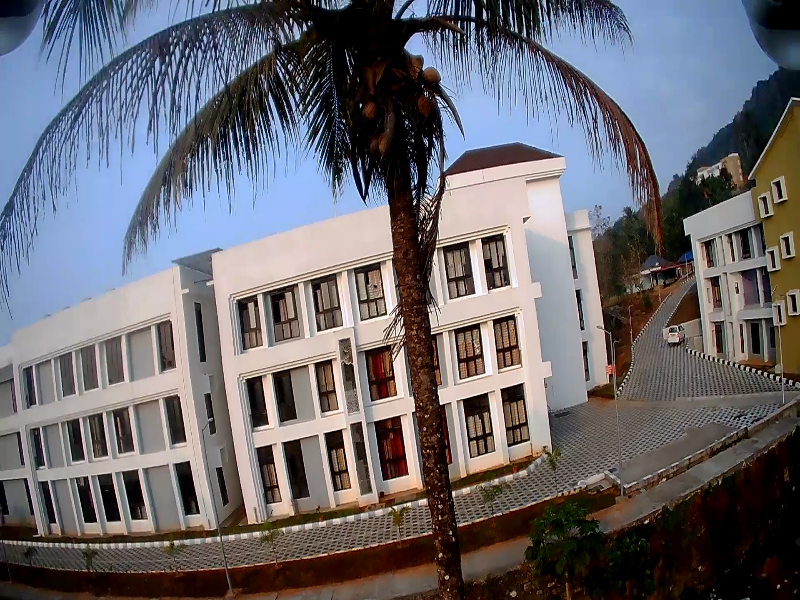coconut: (420, 60, 444, 90), (413, 97, 441, 120), (360, 103, 381, 121), (380, 137, 398, 157), (362, 140, 381, 157)
